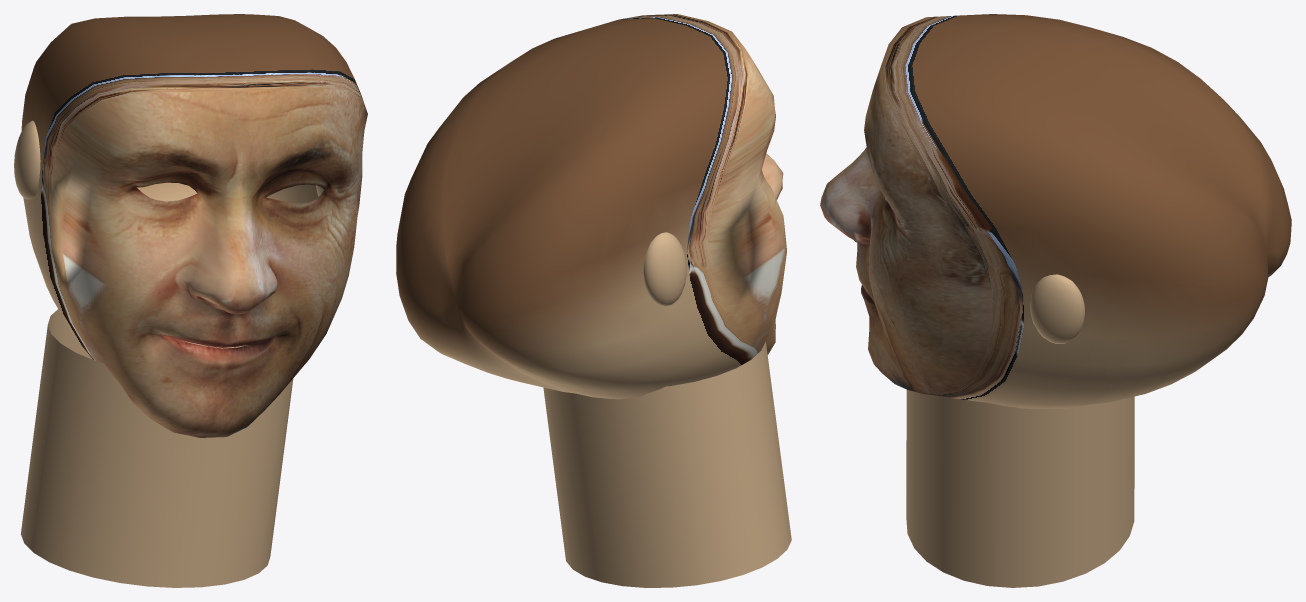
3 views of the same model, side by side, from view 1: azimuth 30°, elevation 25°; view 2: azimuth 150°, elevation 25°; view 3: azimuth 270°, elevation 25° (orthographic). The views are drawn at different scales.
Parts seen in each view (by area): view 1: geometry_0; view 2: geometry_0; view 3: geometry_0.
Part boxes in pixels (left/top/right/bottom): geometry_0: left=14, top=14, right=367, bottom=587; geometry_0: left=396, top=14, right=791, bottom=587; geometry_0: left=820, top=14, right=1291, bottom=587.
Size of the model in its own units: 1.2 by 1.81 by 1.5.
1 material, 1 textured.
